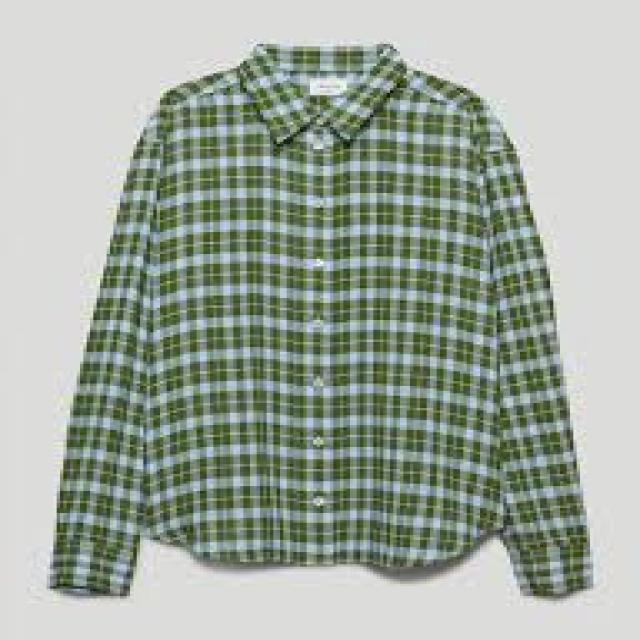plaid: (51, 25, 597, 618)
